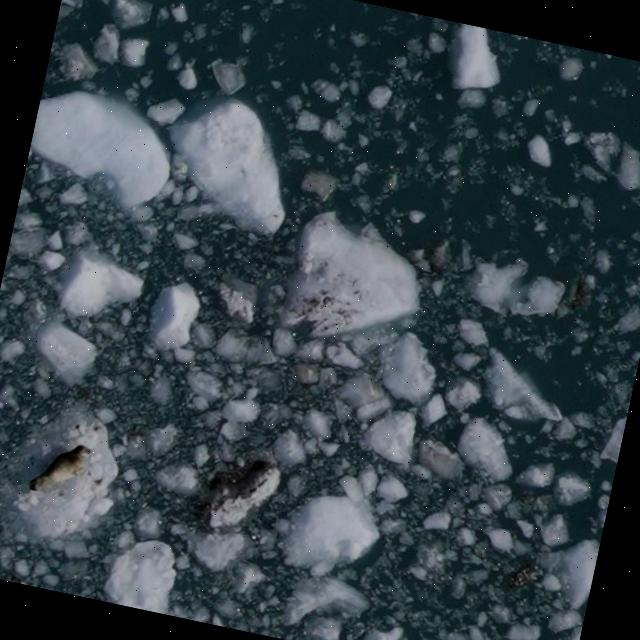seal: (21, 438, 99, 499)
